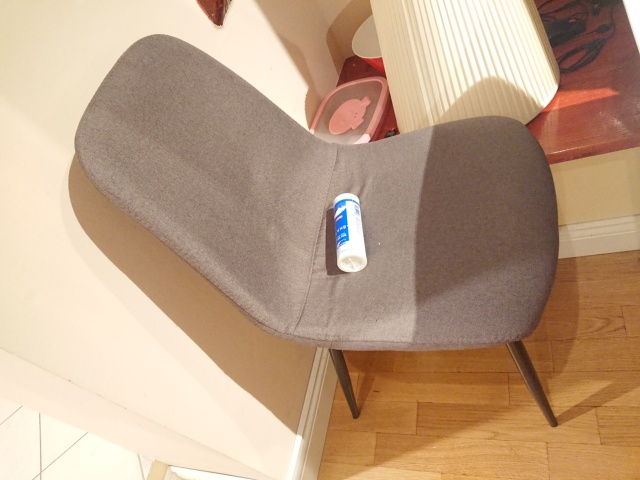Solana Pag Fine Sea Salt 250g: (330, 191, 369, 275)
